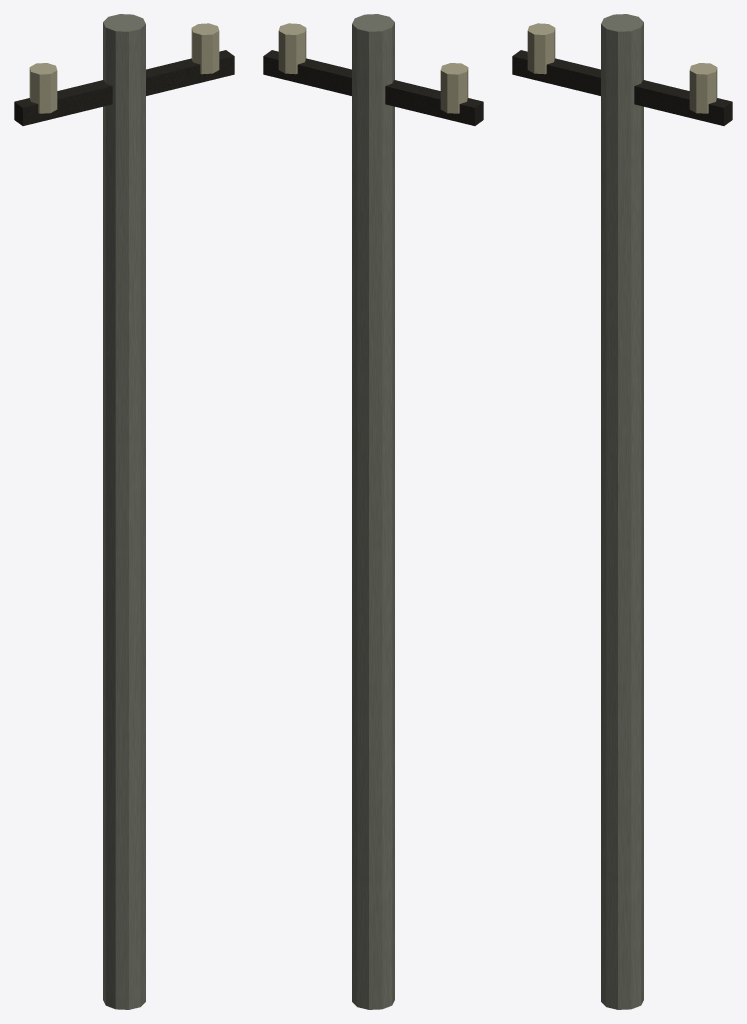
File: electrical_pole.glb
3 renders of one model, left to right at view 1: azimuth 30°, elevation 25°; view 2: azimuth 150°, elevation 25°; view 3: azimuth 330°, elevation 25°, orthographic.
Visible parts, largest first — view 1: ElectricalPole; view 2: ElectricalPole; view 3: ElectricalPole.
Boxes of the visible parts, box(x1,y1,x2,y2) form: ElectricalPole: box(14, 14, 234, 1009); ElectricalPole: box(263, 14, 483, 1009); ElectricalPole: box(512, 14, 732, 1009).
Size of the model in its own units: 1.7 by 7.5 by 0.2853.
Materials: 1 (1 with a texture image).
